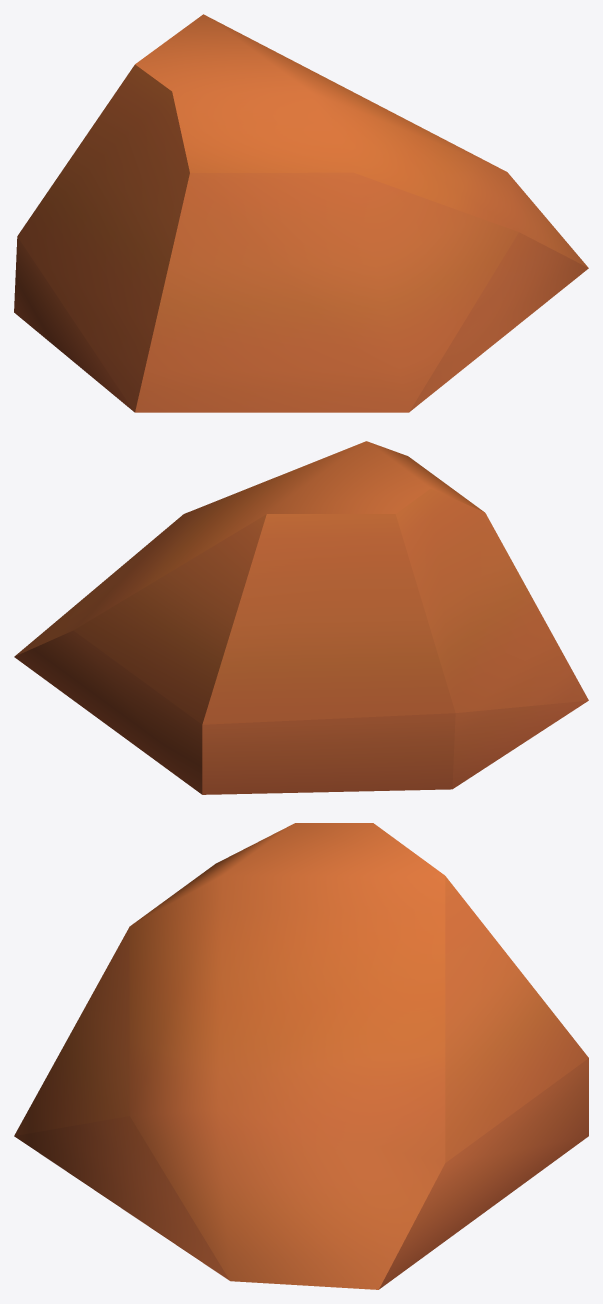
The model's file is kay-rocha-marte.gltf.
3 views of the same model, one above another, from view 1: azimuth 30°, elevation 25°; view 2: azimuth 150°, elevation 25°; view 3: azimuth 270°, elevation 25° (orthographic). The views are drawn at different scales.
Visible parts, largest first — view 1: rock_A; view 2: rock_A; view 3: rock_A.
Boxes of the visible parts, box(x1,y1,x2,y2) form: rock_A: box(14, 14, 588, 412); rock_A: box(14, 441, 588, 794); rock_A: box(14, 823, 588, 1289).
Size of the model in its own units: 1.39 by 0.65 by 1.3.
1 material, 1 textured.
